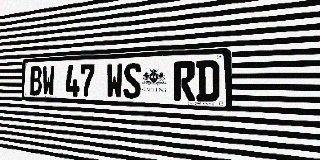4: (65, 65, 79, 97)
7: (80, 64, 95, 97)
B: (30, 66, 42, 96)
D: (196, 60, 219, 102)
R: (174, 61, 195, 101)
S: (123, 63, 141, 99)
W: (106, 63, 123, 98), (42, 66, 55, 96)
